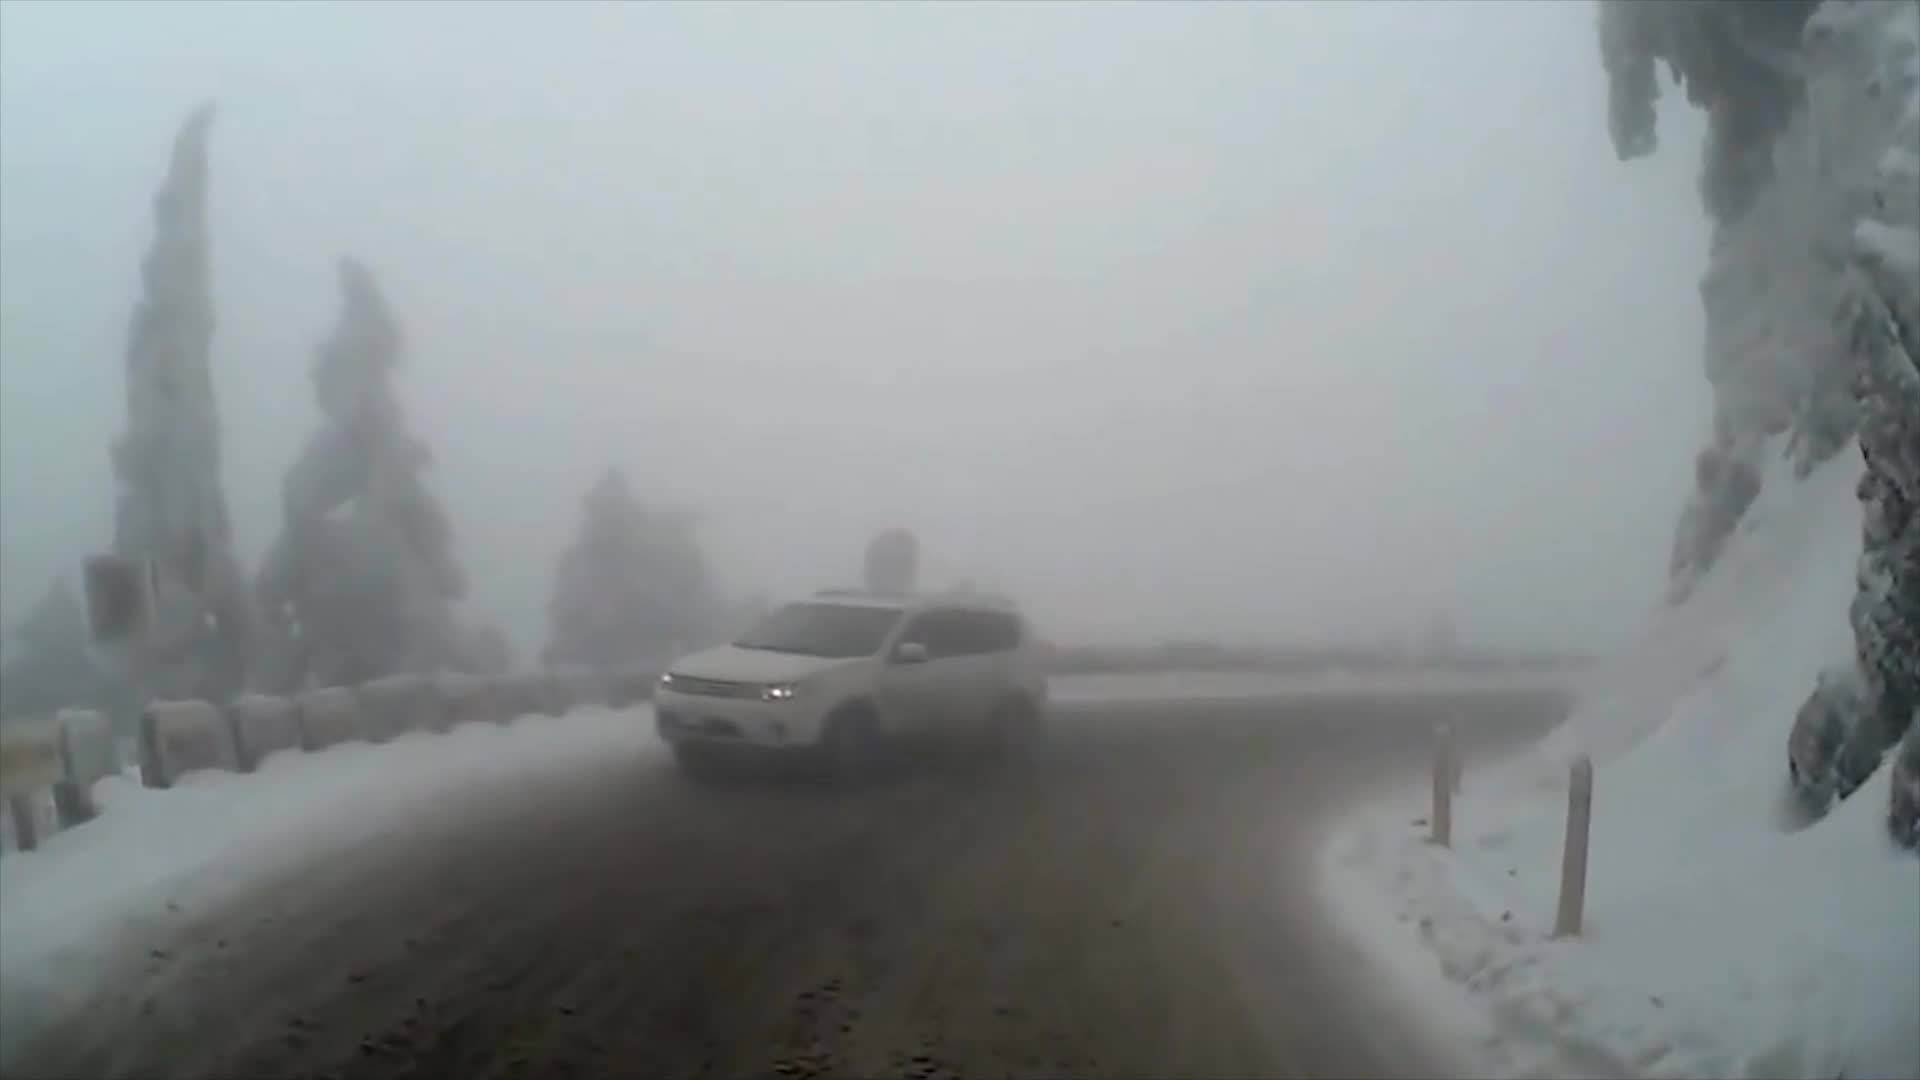vehicle: (650, 591, 1046, 806)
